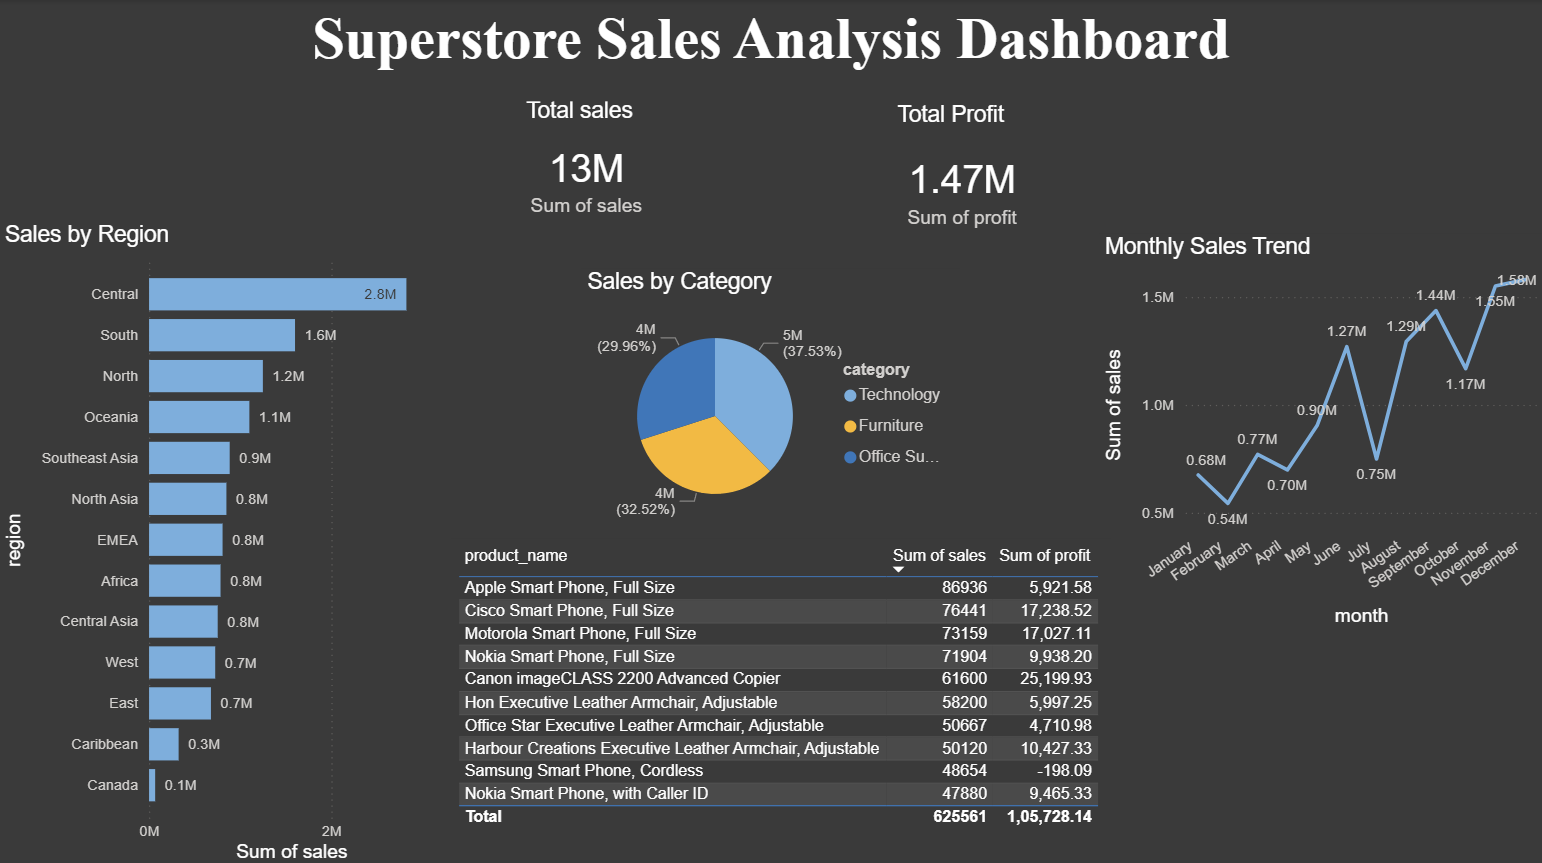

The dashboard page shown, as its layout file describes it:
{"tool":"powerbi","page":{"name":"Page 1","canvas":[1280,720],"ordinal":0},"visuals":[{"type":"card","title":"Total sales","fields":{"Values":["Sum(Raw_Data.sales)"]},"box":[432.5,81.2,110,112.5],"z":0},{"type":"card","title":"Total Profit","fields":{"Values":["Sum(Raw_Data.profit)"]},"box":[740,83.8,117.5,125],"z":1000},{"type":"clusteredBarChart","title":"Sales by Region","fields":{"Category":["Raw_Data.region"],"Y":["Sum(Raw_Data.sales)"]},"box":[0,183.3,375.6,536.7],"z":2000},{"type":"pieChart","title":"Sales by Category","fields":{"Category":["Raw_Data.category"],"Y":["Sum(Raw_Data.sales)"]},"box":[482.5,222.5,313.8,223.8],"z":3000},{"type":"lineChart","title":"Monthly Sales Trend","fields":{"Category":["Raw_Data.month"],"Y":["Sum(Raw_Data.sales)"]},"box":[911.7,193.3,368.3,330],"z":4000},{"type":"tableEx","fields":{"Values":["Raw_Data.product_name","Sum(Raw_Data.sales)","Sum(Raw_Data.profit)"]},"box":[375.6,446.7,546.7,273.3],"z":5000},{"type":"textbox","box":[232,0,816,84],"z":6000}]}

Visuals, with their boxes in screenshot pixels (x1, y1, x2, y2), scaled from the page's 1280x720 canvas onto the 1542x863 screenshot:
"Total sales" card: {"x1": 521, "y1": 97, "x2": 654, "y2": 232}
"Total Profit" card: {"x1": 891, "y1": 100, "x2": 1033, "y2": 250}
"Sales by Region" clusteredBarChart: {"x1": 0, "y1": 220, "x2": 452, "y2": 862}
"Sales by Category" pieChart: {"x1": 581, "y1": 267, "x2": 959, "y2": 535}
"Monthly Sales Trend" lineChart: {"x1": 1098, "y1": 232, "x2": 1541, "y2": 627}
tableEx - Raw_Data.product_name x Sum(Raw_Data.sales): {"x1": 452, "y1": 535, "x2": 1111, "y2": 862}
textbox: {"x1": 279, "y1": 0, "x2": 1263, "y2": 101}
